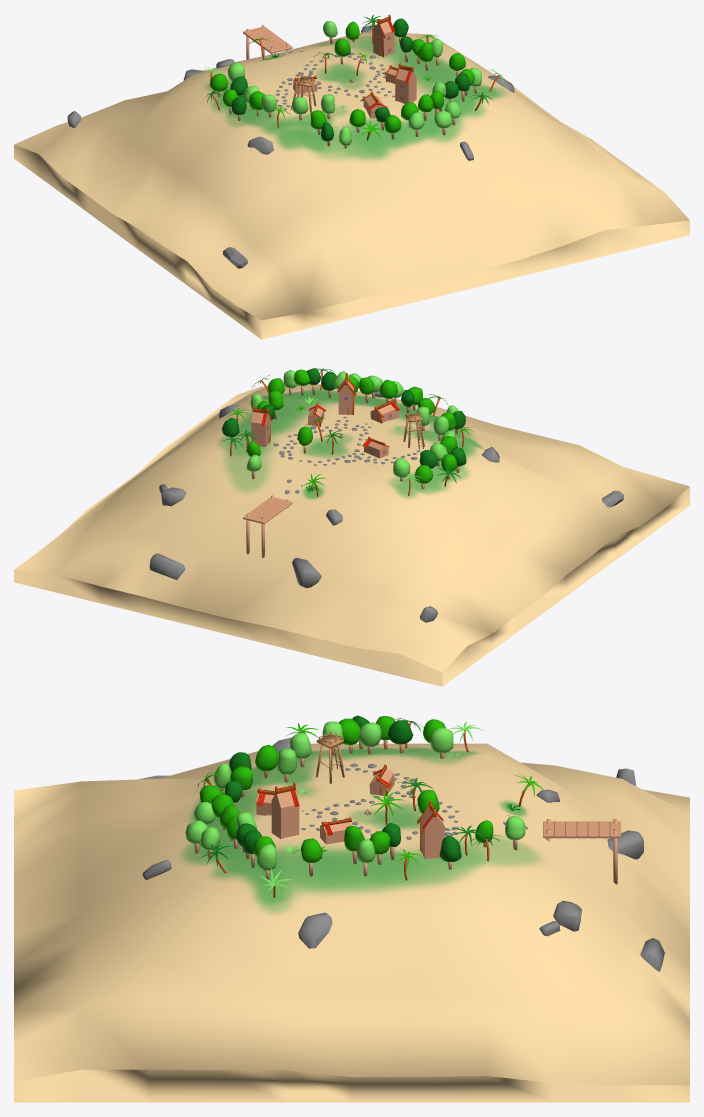
The model's file is IslandTwo.glb.
3 renders of one model, top to bottom at view 1: azimuth 30°, elevation 25°; view 2: azimuth 150°, elevation 25°; view 3: azimuth 270°, elevation 25°, orthographic. The views are drawn at different scales.
Visible parts, largest first — view 1: Cube.001, Cube.002, Cube.121, Cube.110; view 2: Cube.001, Cube.002, Cube.011, Cube.010, Cube.110; view 3: Cube.001, Cube.002, Cube.121, Cube.110, Cube.009, Cube.010, Cube.003.
Part boxes in pixels (x1,y1,x2,y2): Cube.001: (14, 32, 689, 339); Cube.002: (243, 27, 292, 53); Cube.121: (396, 68, 416, 103); Cube.110: (373, 21, 394, 56); Cube.001: (14, 382, 689, 686); Cube.002: (243, 497, 292, 524); Cube.011: (149, 553, 185, 579); Cube.010: (292, 557, 321, 588); Cube.110: (251, 412, 269, 446); Cube.001: (14, 743, 689, 1102); Cube.002: (543, 821, 620, 838); Cube.121: (271, 790, 299, 838); Cube.110: (420, 808, 444, 859); Cube.009: (298, 912, 332, 948); Cube.010: (607, 830, 643, 859); Cube.003: (553, 901, 581, 931).
Size of the model in its own units: 2 by 0.6396 by 2.
Materials: 11 (1 with a texture image).
